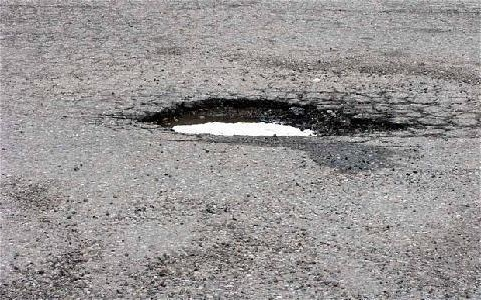pothole: (140, 91, 411, 140)
